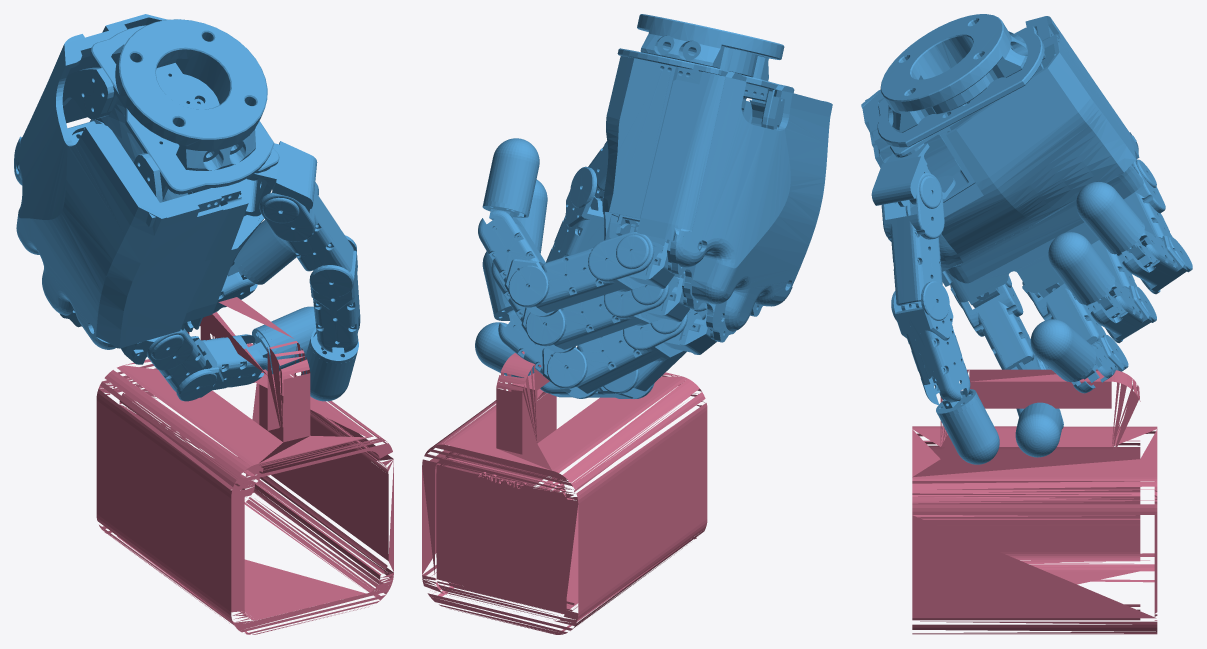
3 renders of one model, left to right at view 1: azimuth 30°, elevation 25°; view 2: azimuth 150°, elevation 25°; view 3: azimuth 270°, elevation 25°, orthographic. The views are drawn at different scales.
Visible parts, largest first — view 1: 1; view 2: 1; view 3: 1.
Boxes of the visible parts, bbox=[...] form: 1: bbox=[14, 14, 393, 634]; 1: bbox=[422, 14, 832, 634]; 1: bbox=[861, 14, 1192, 634].
Bounding box in the file's own units: 0.1399 × 0.2646 × 0.1485.
